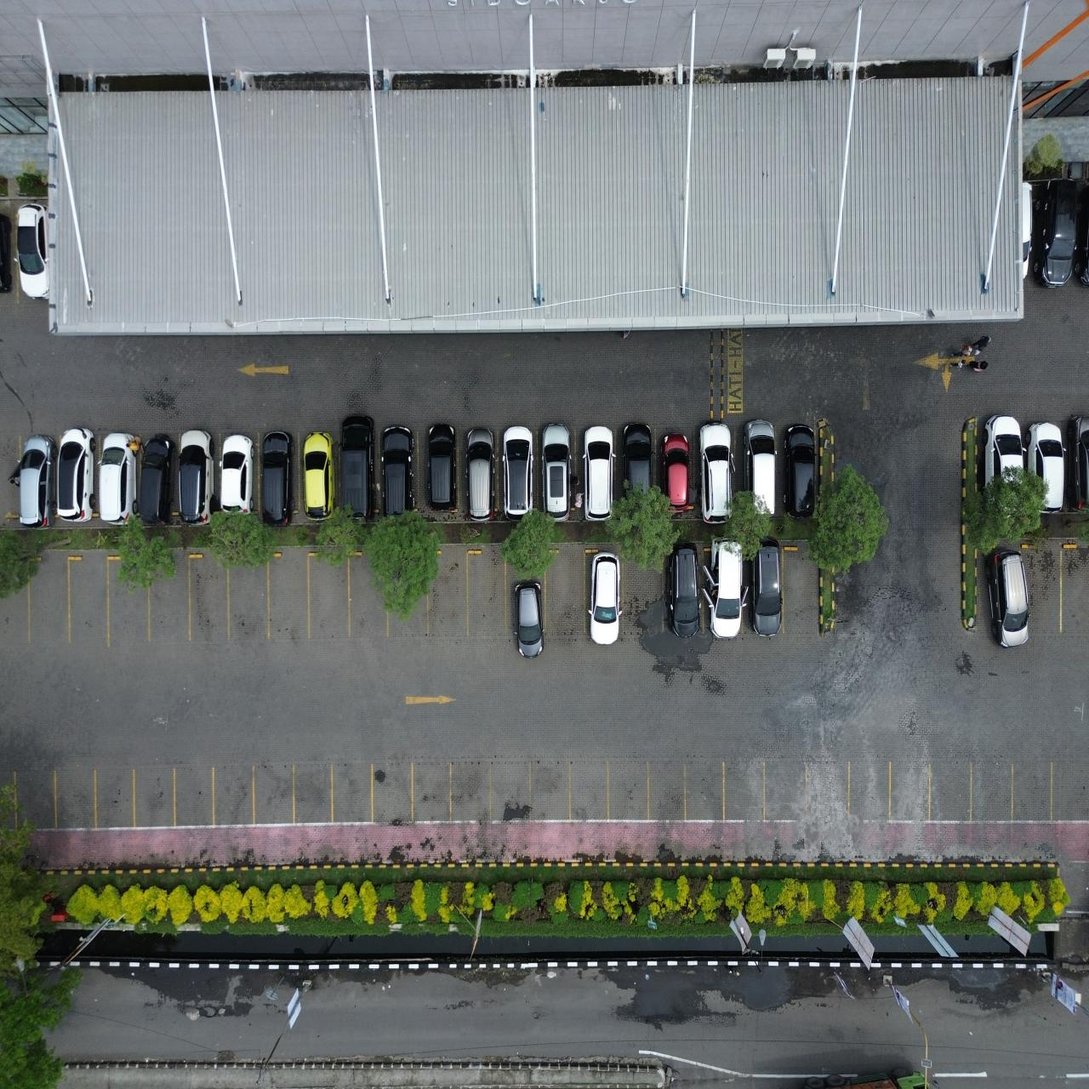cars: (19, 437, 58, 524), (706, 549, 745, 636), (179, 436, 217, 524), (100, 438, 137, 523), (586, 548, 622, 635), (60, 436, 96, 523), (509, 549, 544, 638), (262, 437, 299, 519), (668, 548, 702, 637), (301, 437, 337, 520), (382, 436, 418, 519), (221, 438, 257, 520), (423, 437, 459, 519), (342, 435, 377, 519), (740, 433, 776, 513), (142, 438, 176, 522), (697, 433, 733, 512), (502, 433, 536, 515), (541, 433, 575, 514), (751, 549, 782, 637), (582, 433, 616, 513), (464, 434, 497, 516), (782, 431, 814, 513), (621, 433, 653, 513), (658, 433, 691, 510)
empty: (109, 547, 149, 642), (30, 549, 69, 645), (151, 548, 189, 642), (230, 547, 268, 639), (310, 547, 348, 638), (192, 547, 228, 641), (389, 548, 427, 637), (625, 547, 663, 635), (429, 548, 467, 636), (350, 547, 387, 637), (71, 549, 106, 644), (547, 548, 584, 636), (271, 547, 306, 640), (469, 547, 505, 636), (785, 547, 819, 634)
